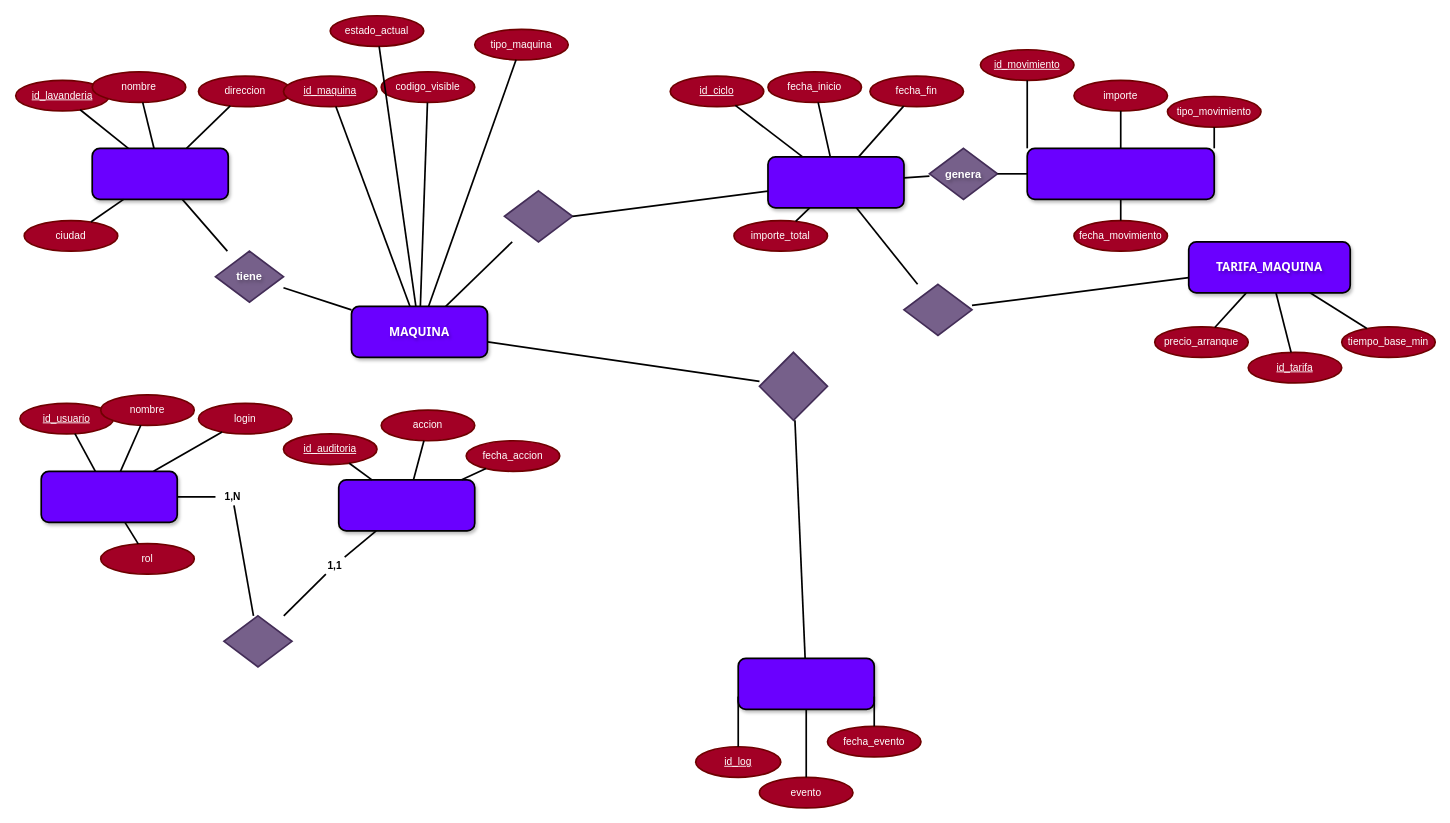
Some shapes in this 1450 by 823 pixel diagram are drawn without their labels. The shapes that lost their labels are listed below. From the top down, each one's centre as x and y in pixels, then its label:
At (x=161, y=175): "LAVANDERIA".
At (x=836, y=183): "CICLO".
At (x=1121, y=175): "MOVIMIENTO_MAQUINA".
At (x=538, y=216): "ejecuta".
At (x=937, y=309): "aplica".
At (x=793, y=386): "registra".
At (x=110, y=498): "USUARIO".
At (x=407, y=506): "AUDITORIA".
At (x=257, y=641): "realiza".
At (x=807, y=685): "LOG_MAQUINA".
